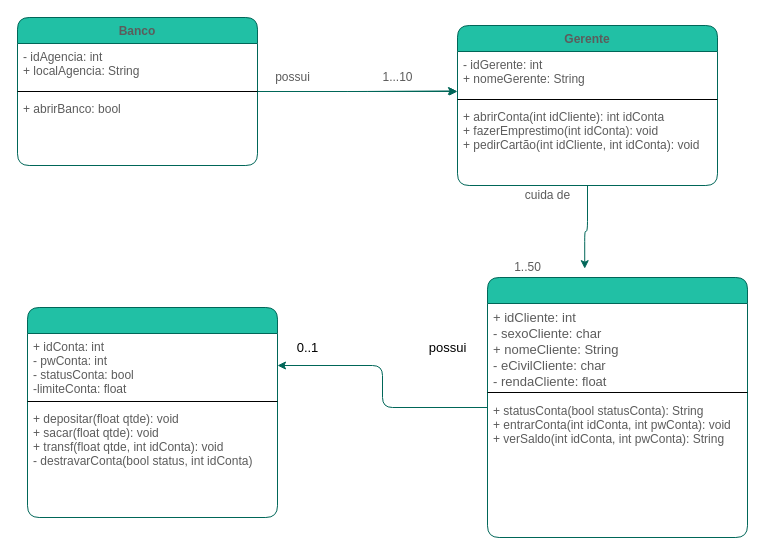
The diagram is 765 pixels wide and 558 high, and some of its shapes have lost their labels. The shapes that lost their labels are listed below. From the top down, each one's box as (x1, y1, x2, y2) in pixels, then its label:
(26, 306, 278, 518): Conta Bancária
(486, 276, 748, 538): Pessoa
